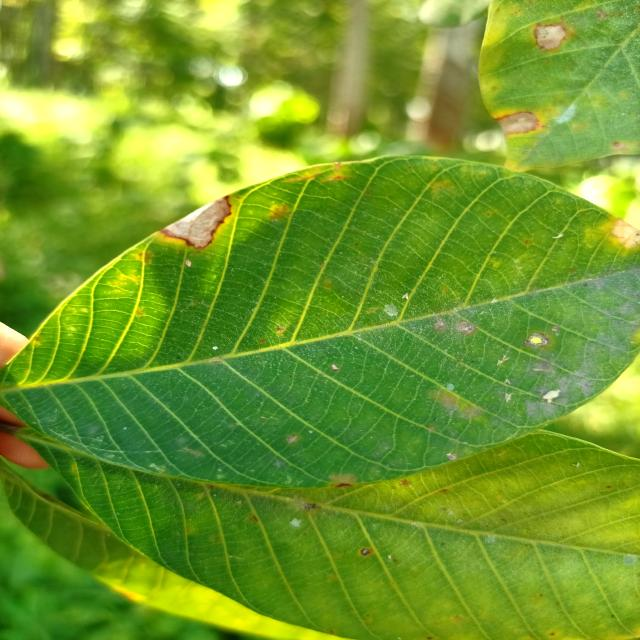Colletotrichum: (360, 548, 370, 556)
Leaf-Blight: (160, 195, 232, 248), (497, 111, 539, 136), (612, 218, 640, 247)
